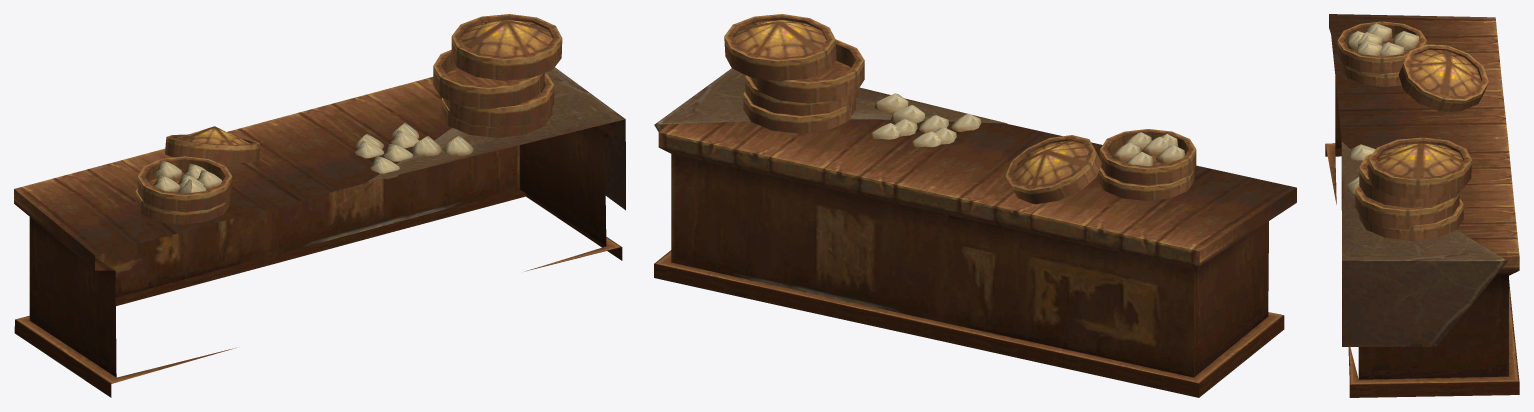
The model's file is xs_Item_baozi_3.FBX.
The picture shows the model from 3 angles, left to right: view 1: azimuth 30°, elevation 25°; view 2: azimuth 150°, elevation 25°; view 3: azimuth 270°, elevation 25°; orthographic projection. The views are drawn at different scales.
Visible parts, largest first — view 1: xs_Item_baozi_3; view 2: xs_Item_baozi_3; view 3: xs_Item_baozi_3.
Part boxes in pixels (x1,y1,x2,y2): xs_Item_baozi_3: (14,14,625,397); xs_Item_baozi_3: (654,14,1296,397); xs_Item_baozi_3: (1325,14,1519,397).
Bounding box in the file's own units: 606 × 201 × 249.
